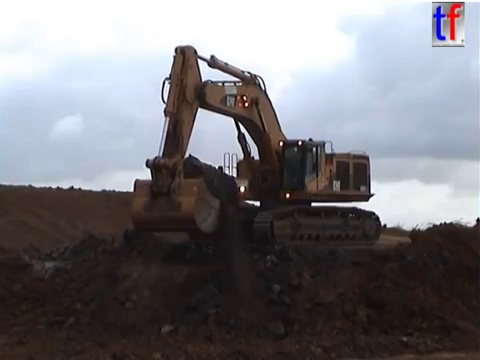excavator: (127, 42, 384, 252)
